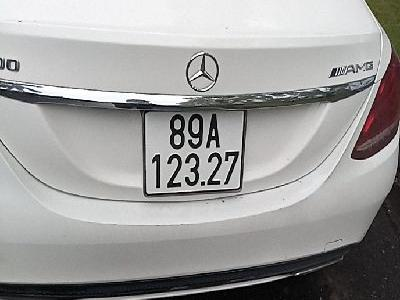car: (143, 111, 245, 195)
